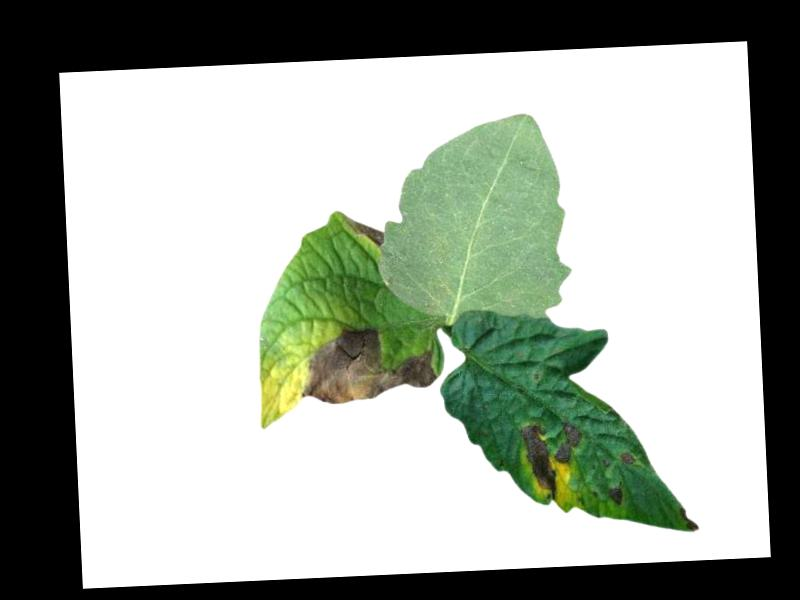Early_blight: (297, 322, 439, 408), (518, 418, 585, 503), (347, 217, 384, 253), (679, 505, 699, 532), (608, 486, 622, 506), (617, 451, 635, 464)
healthy: (371, 110, 574, 329)
